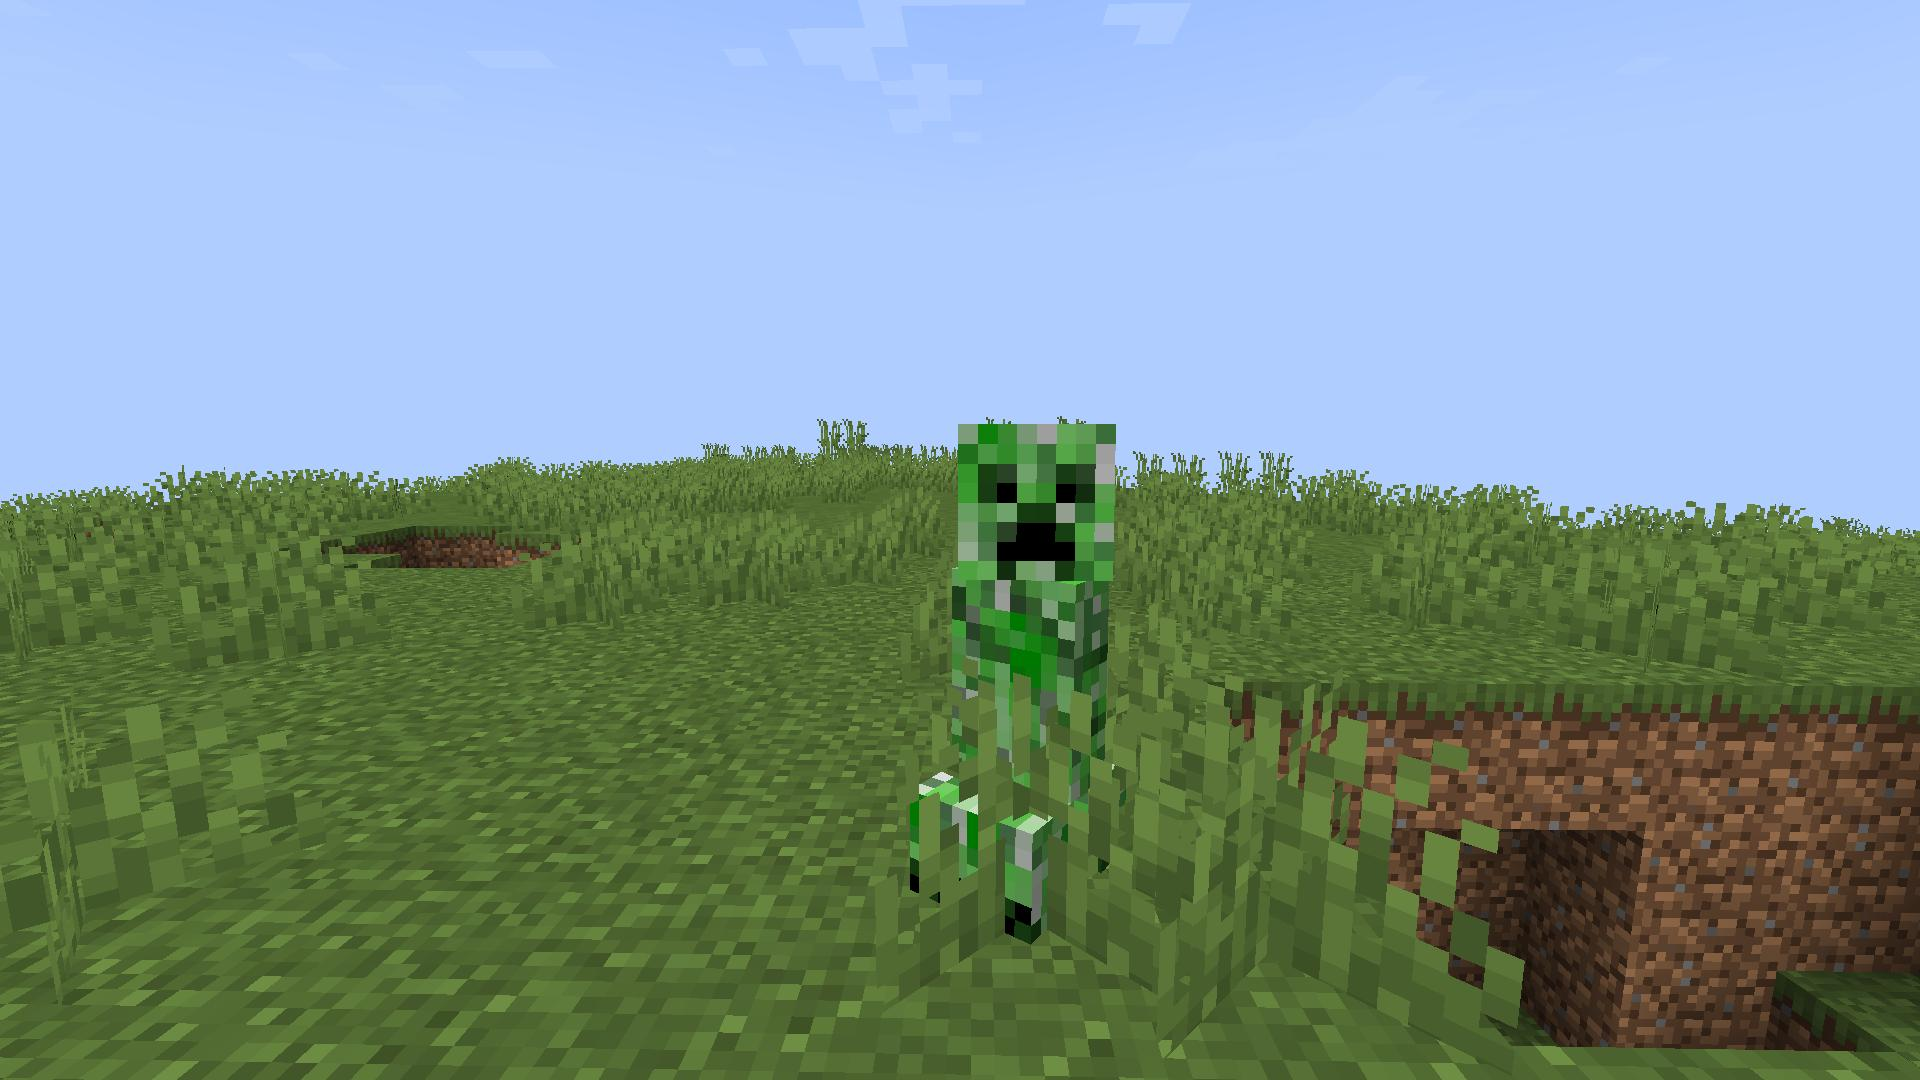creeper: (901, 413, 1156, 949)
